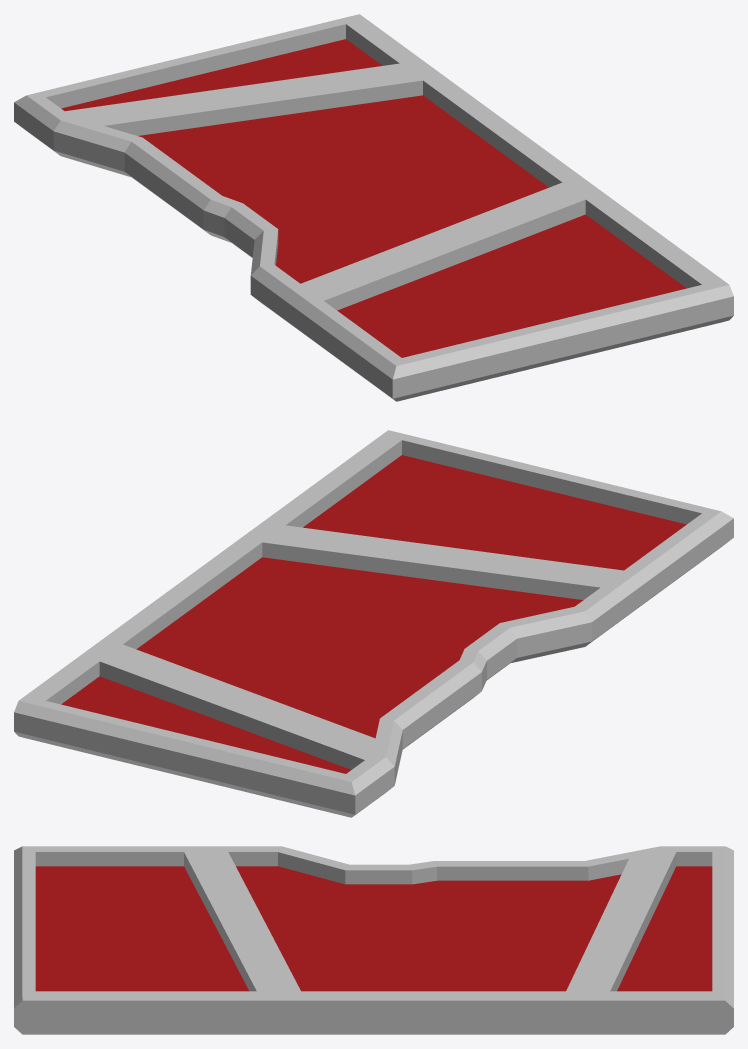
Rendered from Porta_AntaDX.fbx.
3 renders of one model, top to bottom at view 1: azimuth 30°, elevation 25°; view 2: azimuth 150°, elevation 25°; view 3: azimuth 270°, elevation 25°, orthographic. The views are drawn at different scales.
Parts seen in each view (by area): view 1: Telaio, Pannelli; view 2: Telaio, Pannelli; view 3: Pannelli, Telaio.
Boxes of the visible parts, x1,y1,x2,y2 form: Telaio: (14,14,733,401); Pannelli: (61,39,686,357); Telaio: (14,430,733,817); Pannelli: (61,455,686,773); Pannelli: (35,866,712,991); Telaio: (14,846,733,1034).
Bounding box in the file's own units: 130 × 13 × 250.
